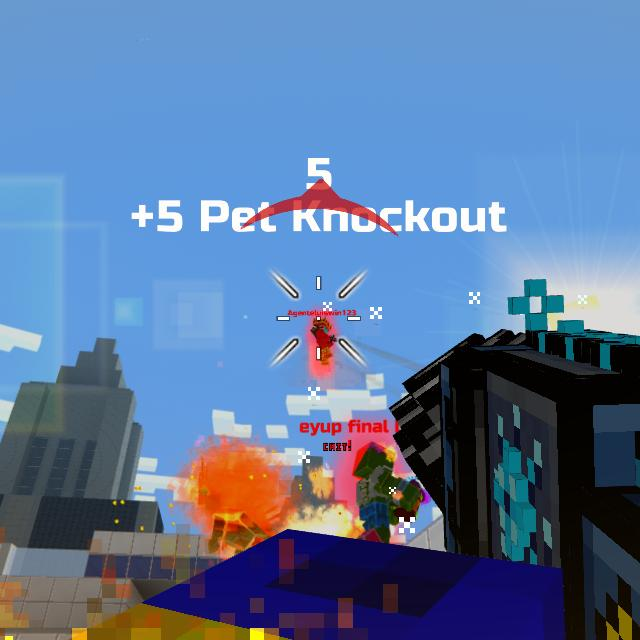Enemy: (352, 441, 420, 543), (310, 316, 334, 365)
